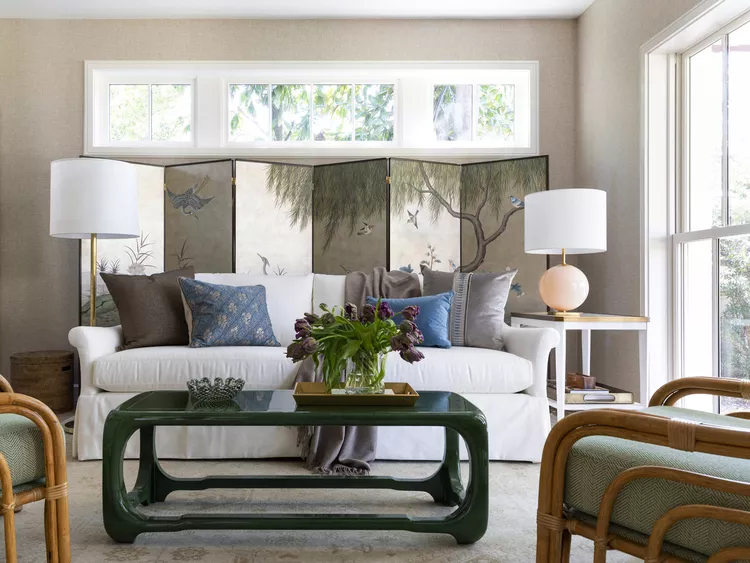chair: (534, 373, 750, 562), (0, 368, 77, 563)
floor lamp: (44, 152, 142, 429)
flower vase: (285, 298, 424, 397)
side table: (514, 311, 650, 404)
sofa: (65, 264, 562, 466)
table: (97, 386, 493, 545)
table lamp: (518, 183, 611, 316)
